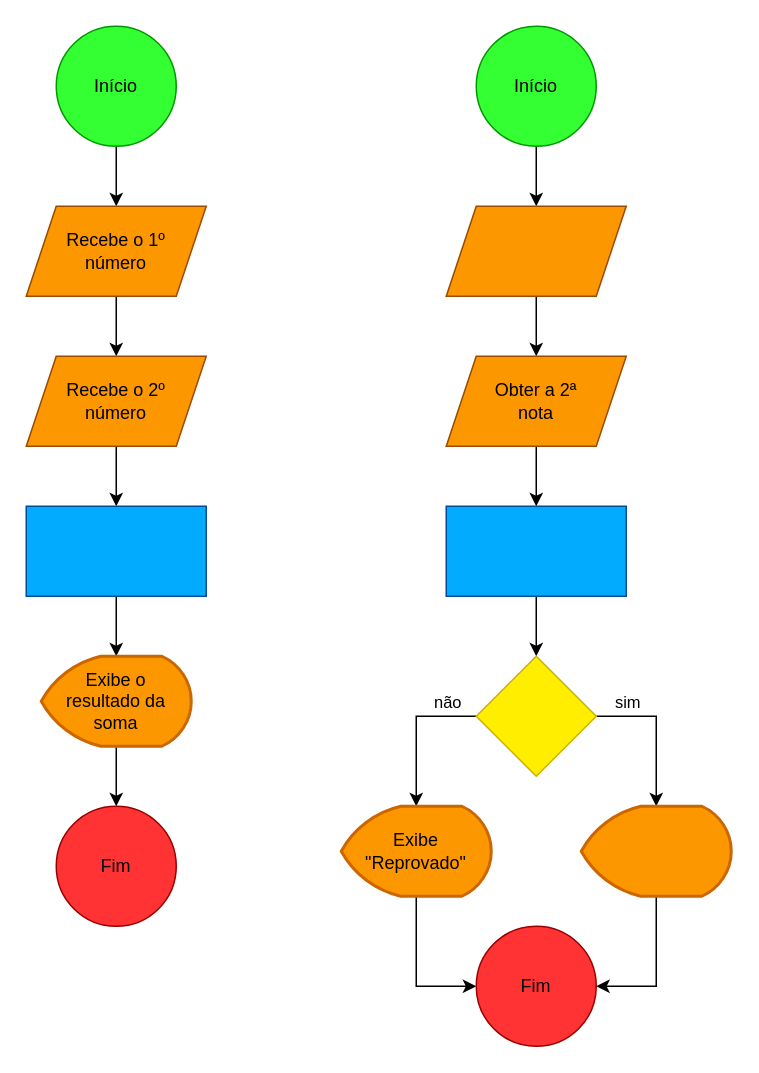
Some shapes in this 759 by 1073 pixel diagram are drawn without their labels. The box of each missing label's shape, as (x1, y1, x2, y2) in pixels:
Exibe "Aprovado": (579, 804, 732, 897)
Média acima de 7?: (475, 655, 596, 776)
Obter a 1ª nota: (445, 205, 626, 296)
Realiza a soma dos números obtidos: (25, 505, 206, 596)
Realiza o cálculo da média: (445, 505, 626, 596)
